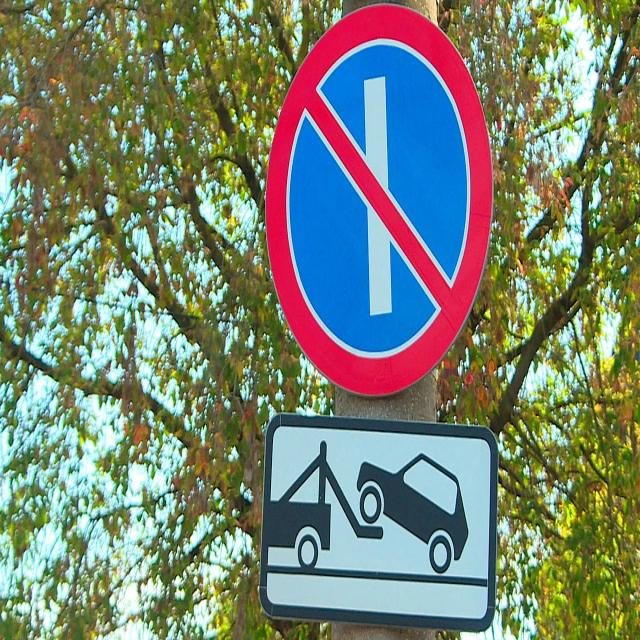Traffic sign: (266, 0, 492, 403), (256, 412, 500, 631)
